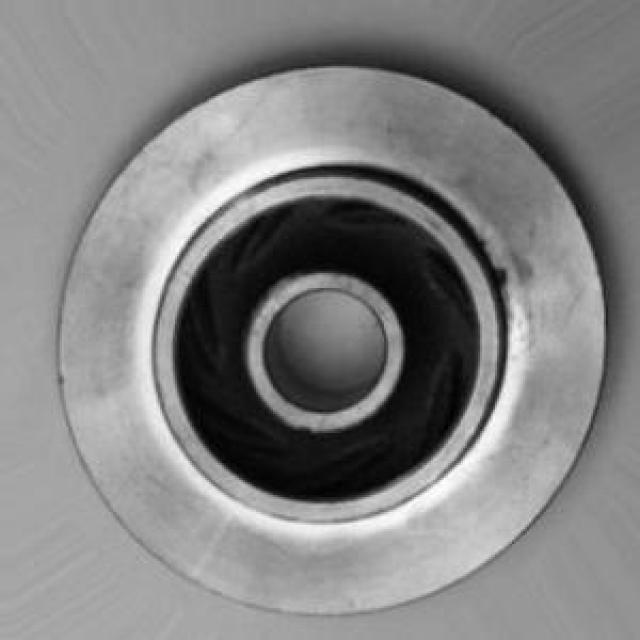Defect: (479, 258, 518, 298)
